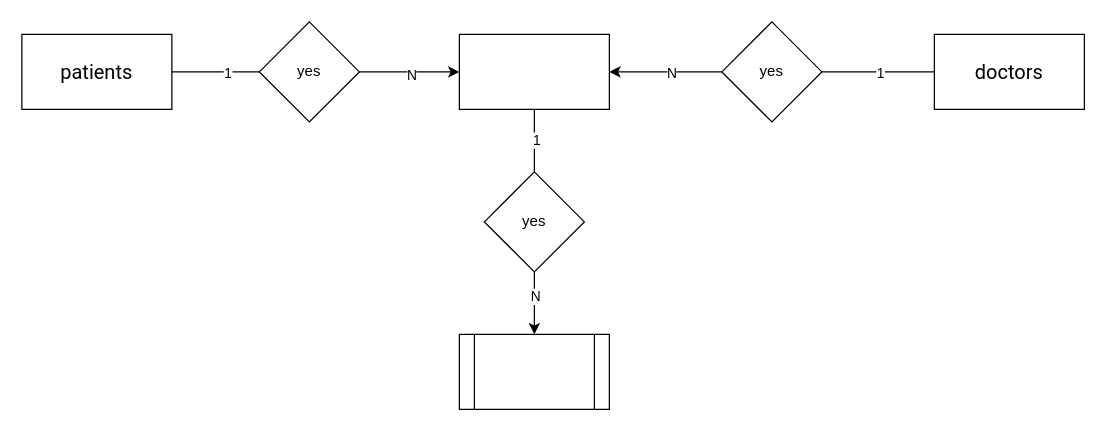
Some shapes in this 1106 by 431 pixel diagram are drawn without their labels. The shapes that lost their labels are listed below. From the top down, each one's centre as x and y in pixels, then its label:
point (533, 71): appointments
point (533, 371): prescriptions
